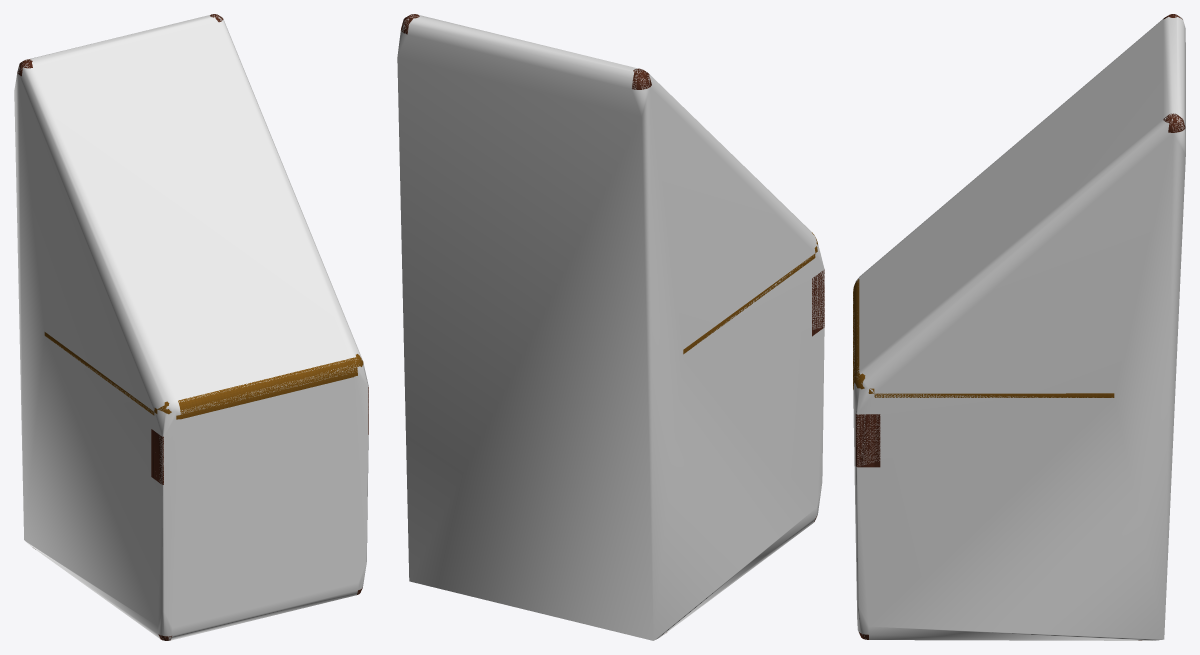
Rendered from SM_UpholsteredChair.glb.
The picture shows the model from 3 angles, left to right: view 1: azimuth 30°, elevation 25°; view 2: azimuth 150°, elevation 25°; view 3: azimuth 270°, elevation 25°; orthographic projection. The views are drawn at different scales.
Visible parts, largest first — view 1: SM_UpholsteredChair_col, SM_UpholsteredChair_LOD0; view 2: SM_UpholsteredChair_col, SM_UpholsteredChair_LOD0; view 3: SM_UpholsteredChair_col, SM_UpholsteredChair_LOD0.
Part boxes in pixels (x1,y1,x2,y2): SM_UpholsteredChair_col: (14,14,368,640); SM_UpholsteredChair_LOD0: (17,14,368,640); SM_UpholsteredChair_col: (397,14,824,640); SM_UpholsteredChair_LOD0: (401,14,824,632); SM_UpholsteredChair_col: (853,15,1185,640); SM_UpholsteredChair_LOD0: (853,14,1185,640).
Size of what is drawn, in the model's own units: 0.445 by 0.977 by 0.5656.
Materials: 2 (2 with a texture image).
